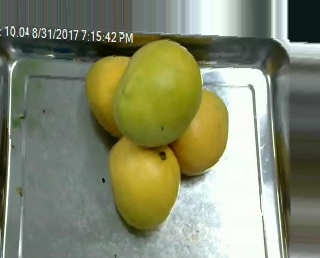Mango: (112, 38, 200, 144), (110, 133, 178, 231), (84, 56, 145, 138), (172, 89, 227, 174)
